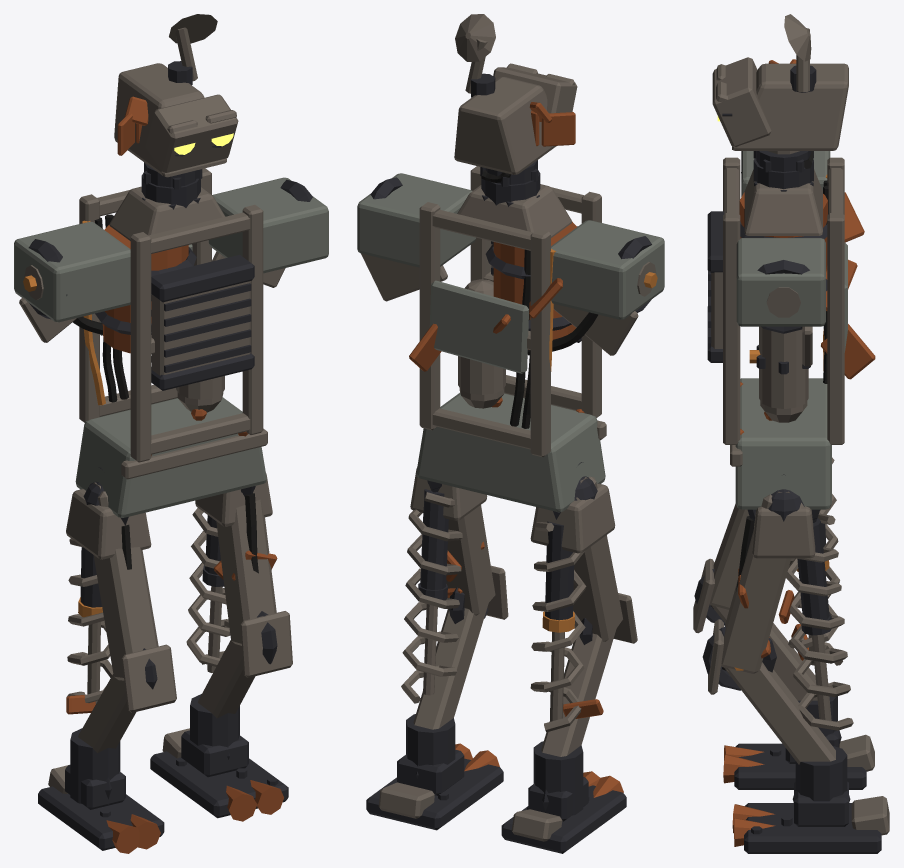
Rendered from ch_lancer.glb.
3 views of the same model, side by side, from view 1: azimuth 30°, elevation 25°; view 2: azimuth 150°, elevation 25°; view 3: azimuth 270°, elevation 25° (orthographic). The views are drawn at different scales.
Visible parts, largest first — view 1: ch_lancer, limb_leg_l, limb_leg_r; view 2: ch_lancer, limb_leg_l, limb_leg_r; view 3: ch_lancer, limb_leg_r, limb_leg_l.
Part boxes in pixels (box(x1,y1,x2,y2)): ch_lancer: box(14, 14, 328, 525); limb_leg_l: box(38, 481, 176, 853); limb_leg_r: box(150, 473, 292, 821); ch_lancer: box(357, 14, 664, 519); limb_leg_l: box(501, 476, 637, 853); limb_leg_r: box(366, 467, 508, 830); ch_lancer: box(707, 14, 875, 519); limb_leg_r: box(702, 489, 889, 853); limb_leg_l: box(693, 457, 874, 789).
Size of the model in its own units: 0.3124 by 0.836 by 0.1846.
